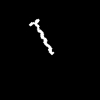half_double_crochet: (29, 19, 53, 54)
